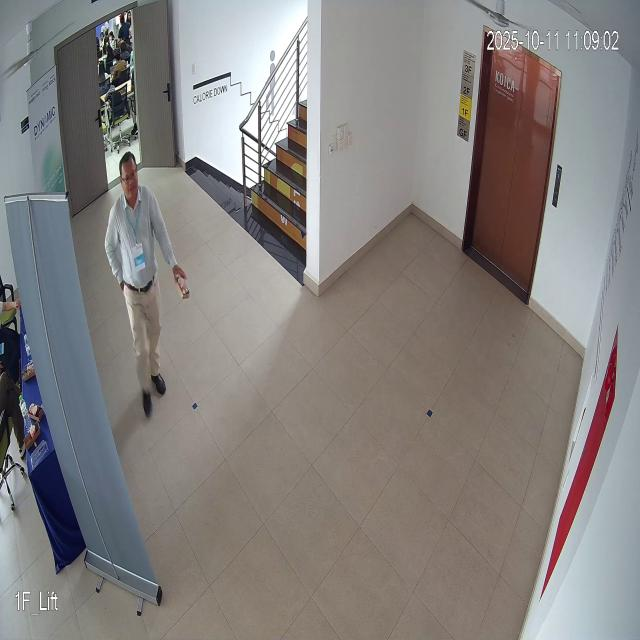face: (111, 148, 144, 202)
